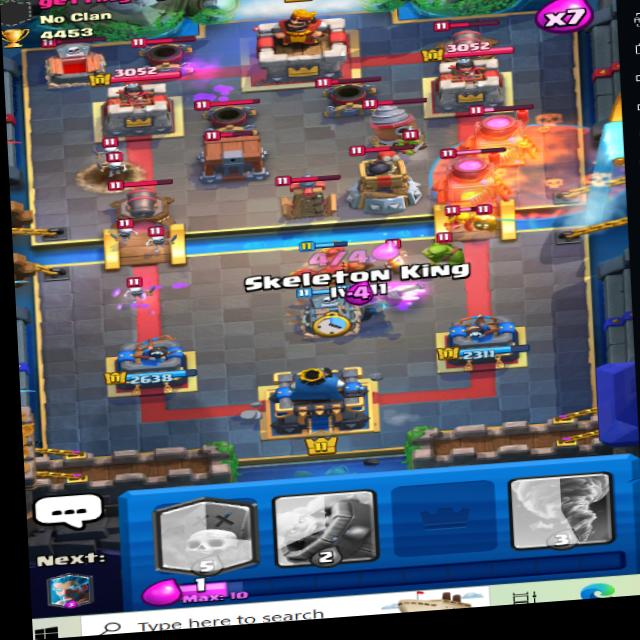Bombtower: (346, 136, 432, 215)
Cannon: (429, 14, 508, 66), (104, 177, 171, 228)
Firespirit: (470, 202, 512, 230)
Furnace: (459, 96, 551, 175), (432, 140, 518, 212)
Goblin: (442, 201, 476, 233)
Goblinbrawler: (412, 233, 471, 272)
Goblincage: (194, 125, 274, 180)
Goblindrill: (351, 93, 432, 156)
Mortar: (131, 22, 205, 77), (313, 71, 382, 122), (193, 96, 262, 133)
Skeleton: (142, 221, 176, 247), (117, 275, 149, 302), (106, 219, 142, 239), (100, 157, 127, 175), (103, 137, 126, 158)
Tesla: (272, 170, 345, 222)
Tombstone: (31, 23, 121, 89)
